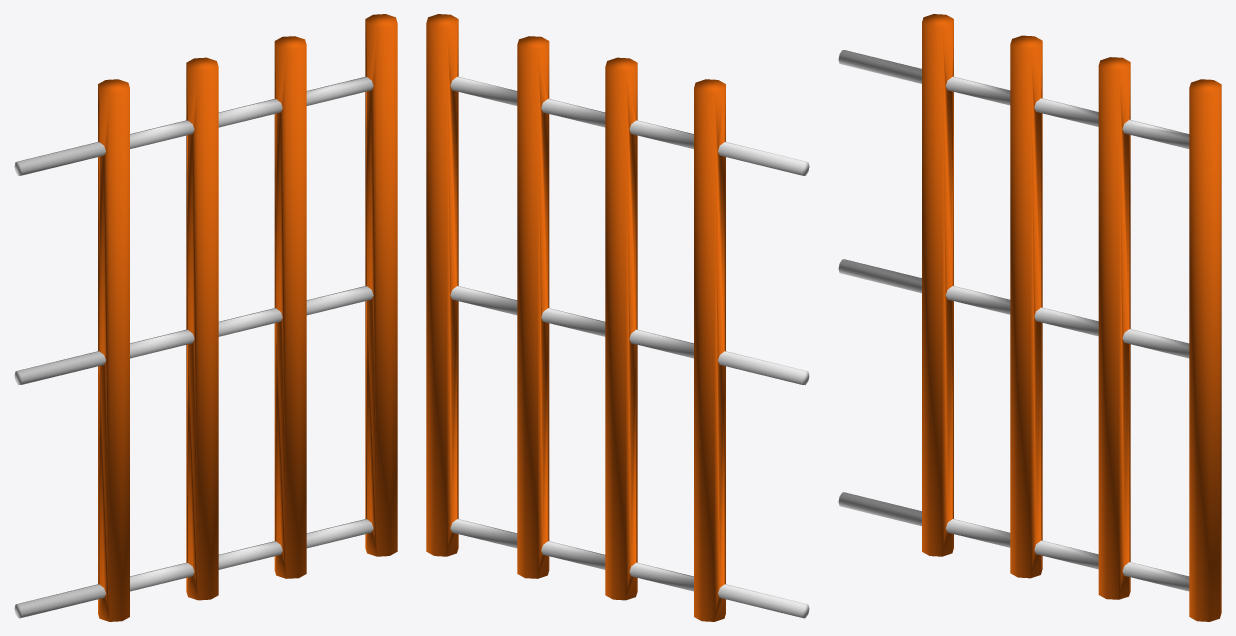
The model's file is PuertaAJardin.fbx.
The picture shows the model from 3 angles, left to right: view 1: azimuth 30°, elevation 25°; view 2: azimuth 150°, elevation 25°; view 3: azimuth 330°, elevation 25°; orthographic projection.
Parts seen in each view (by area): view 1: Cylinder.004; view 2: Cylinder.004; view 3: Cylinder.004.
Boxes of the visible parts, bbox=[...] form: Cylinder.004: bbox=[14, 14, 397, 621]; Cylinder.004: bbox=[426, 14, 809, 621]; Cylinder.004: bbox=[838, 14, 1221, 621].
Bounding box in the file's own units: 427 × 573 × 32.62.
